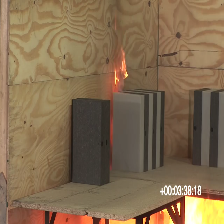fire: (186, 196, 204, 224), (114, 55, 127, 90)
